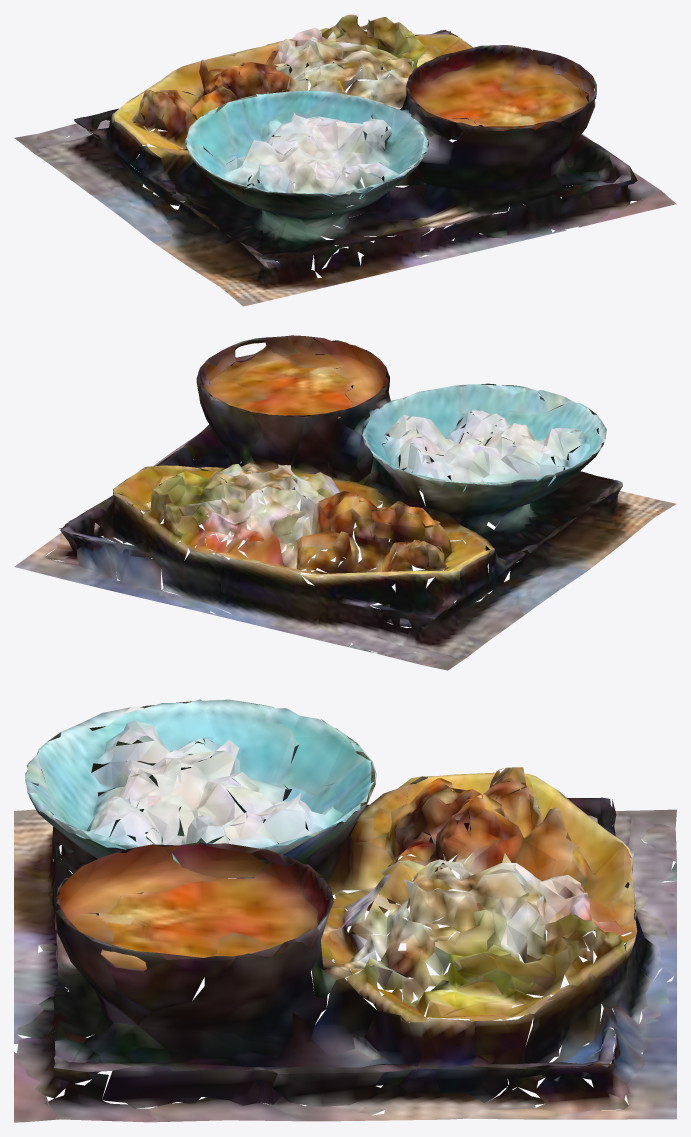
File: food_pf.glb
3 renders of one model, top to bottom at view 1: azimuth 30°, elevation 25°; view 2: azimuth 150°, elevation 25°; view 3: azimuth 270°, elevation 25°, orthographic. The views are drawn at different scales.
Visible parts, largest first — view 1: Object_3, Object_2, Object_4; view 2: Object_3, Object_2, Object_4; view 3: Object_3, Object_2, Object_4.
Part boxes in pixels (<box>): Object_3: <box>14,14,676,306</box>; Object_2: <box>74,15,637,277</box>; Object_4: <box>36,31,660,239</box>; Object_3: <box>14,335,676,670</box>; Object_2: <box>45,336,622,627</box>; Object_4: <box>59,337,604,665</box>; Object_3: <box>14,699,676,1122</box>; Object_2: <box>16,706,673,1119</box>; Object_4: <box>27,705,676,1122</box>.
Bounding box in the file's own units: 0.309 × 0.0687 × 0.2825.
1 material, 1 textured.
